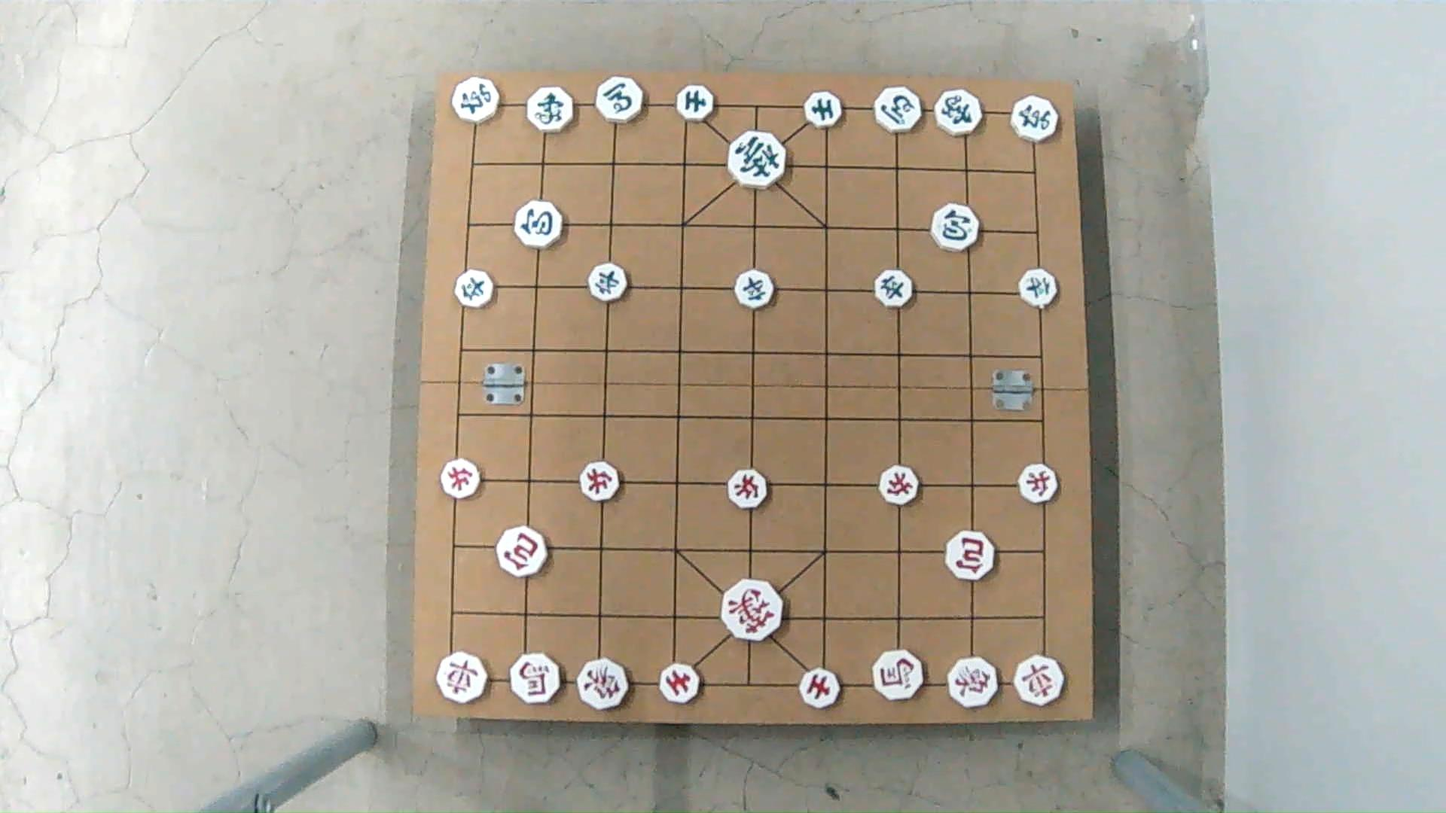cha_green: (1011, 95, 1062, 143), (453, 79, 505, 121)
cha_red: (434, 654, 490, 702), (1014, 658, 1069, 705)
jol_green: (589, 265, 632, 301), (731, 272, 774, 307), (1014, 271, 1057, 306), (454, 272, 498, 306), (874, 272, 916, 306)
jol_red: (576, 464, 621, 500), (440, 460, 484, 496), (726, 473, 771, 508), (1018, 468, 1061, 504), (878, 469, 921, 503)
ma_green: (872, 86, 923, 133), (592, 79, 645, 122)
ma_red: (510, 655, 564, 704), (870, 653, 923, 700)
po_green: (512, 203, 564, 247), (931, 206, 982, 250)
po_red: (943, 531, 999, 582), (495, 530, 550, 576)
sa_green: (802, 95, 844, 129), (676, 86, 717, 120)
sa_red: (798, 670, 844, 707), (656, 665, 701, 702)
sang_green: (934, 92, 985, 135), (524, 87, 576, 129)
sang_red: (945, 658, 999, 708), (577, 658, 628, 708)
wang_green: (729, 132, 793, 184)
wang_red: (719, 581, 786, 641)
